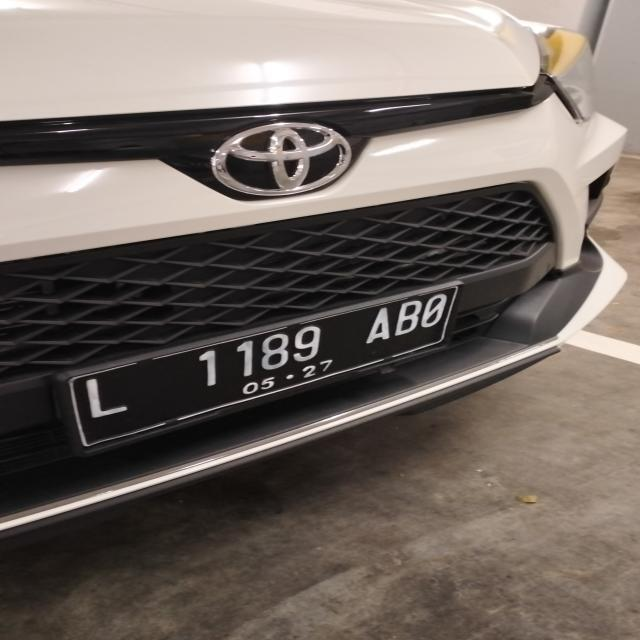1: (224, 340, 260, 378), (194, 347, 224, 392)
8: (260, 334, 290, 370)
9: (289, 326, 323, 360)
A: (365, 304, 393, 346)
B: (393, 300, 422, 338)
L: (74, 380, 130, 418)
O: (424, 292, 449, 327)
